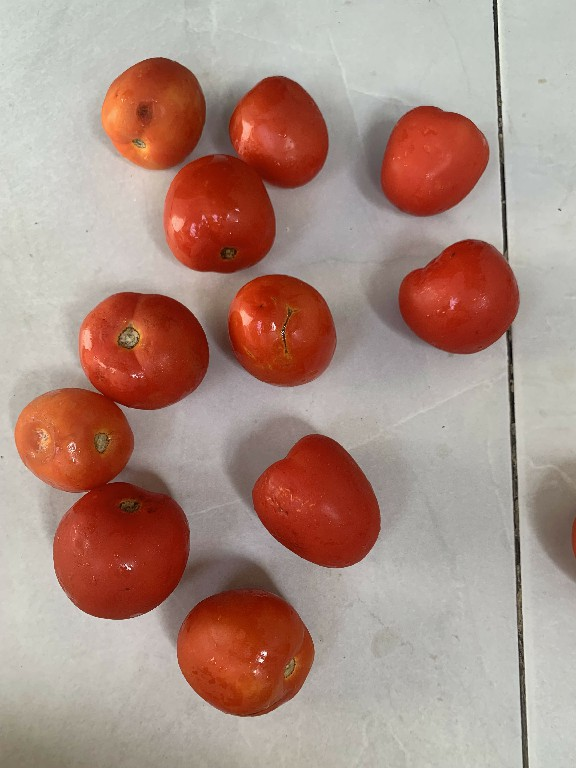NG: (222, 266, 341, 394), (5, 386, 141, 490), (97, 56, 205, 175)
OK: (237, 427, 390, 572), (44, 480, 189, 626), (172, 582, 315, 721), (70, 284, 209, 413), (154, 145, 284, 275), (392, 234, 524, 362), (378, 92, 490, 218), (228, 74, 330, 195)
